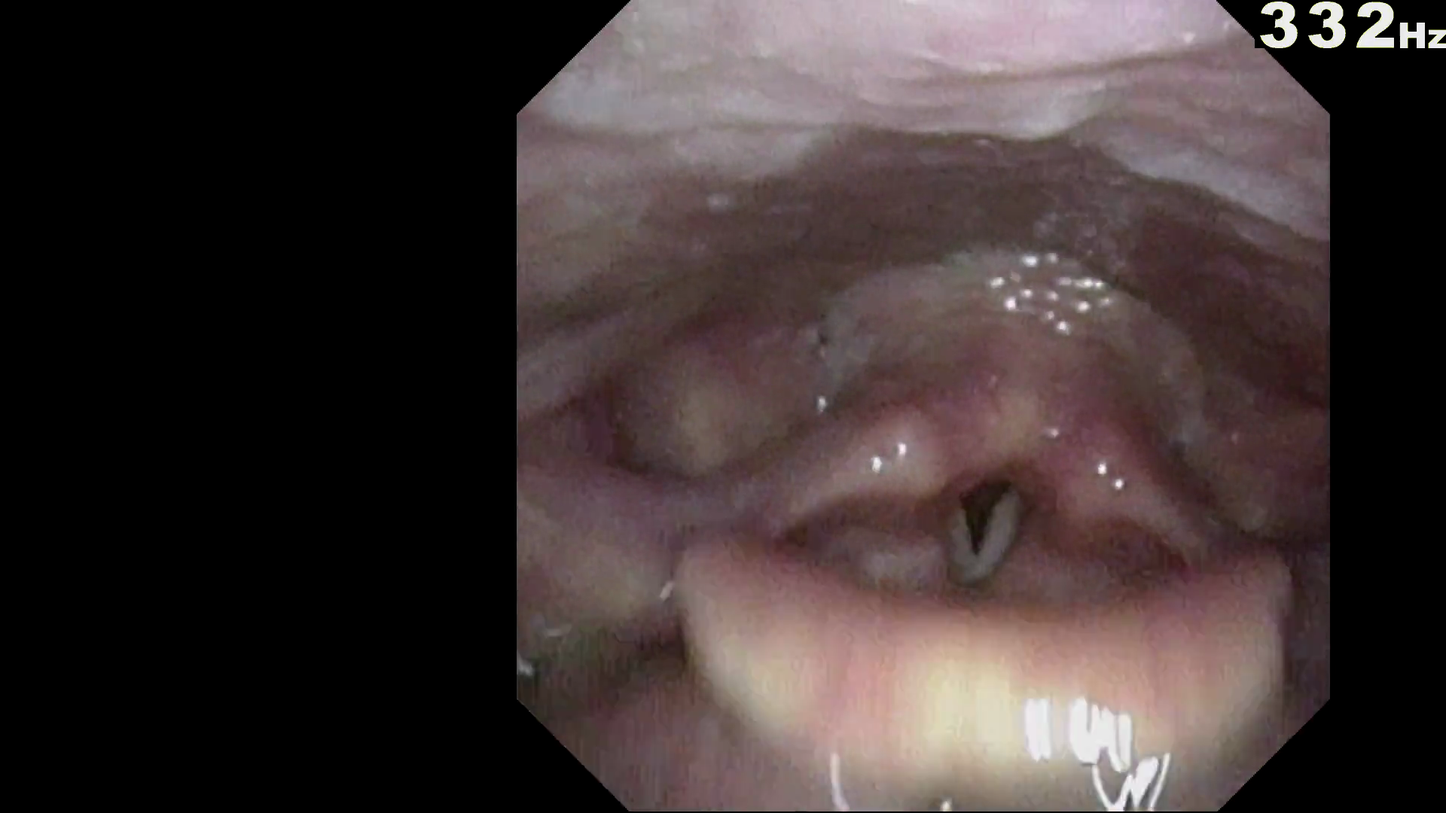epiglottis: (682, 504, 1294, 750)
trachea: (906, 426, 1062, 605)
